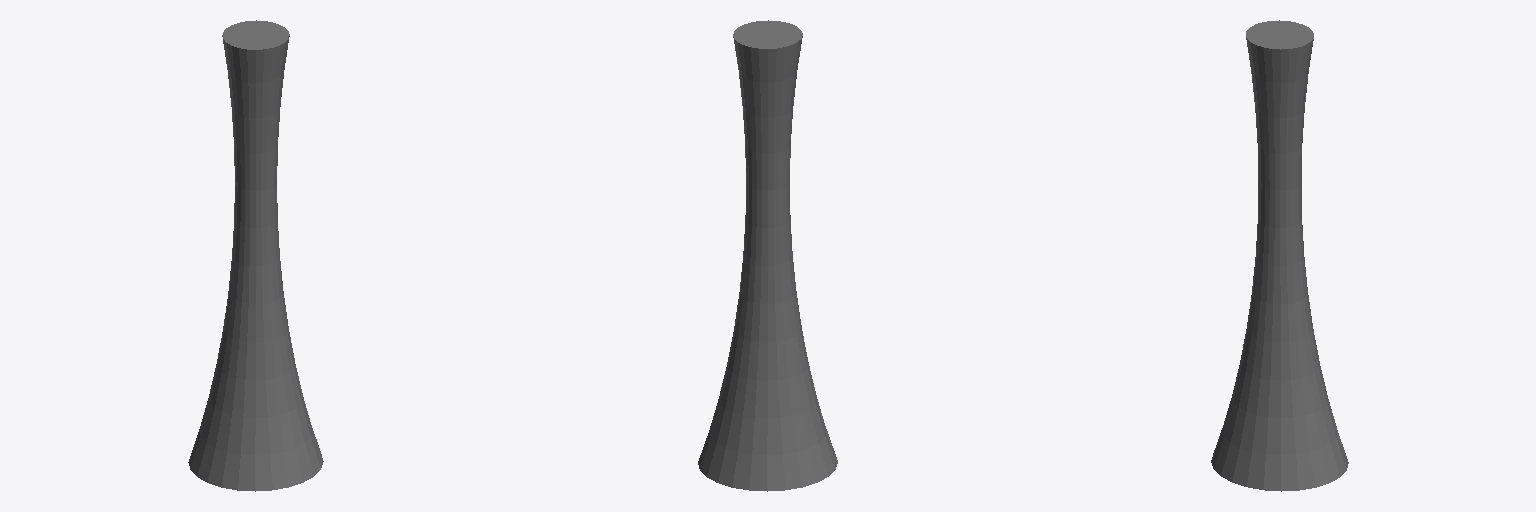
robot.urdf — object:
<?xml version="1.0"?>
<robot name="object">
  <link name="object">
    <visual>
      <origin xyz="0 0 0"/>
      <geometry>
        <mesh
          filename="../../mesh/oakink_virtual/cylinder_bottle_s617.stl" />
      </geometry>
      <material name="mat">
        <color rgba="0.5 0.5 0.5 1"/>
      </material>
    </visual>

    <collision>
      <origin xyz="0 0 0"/>
      <geometry>
        <mesh
          filename="../../mesh/oakink_virtual/cylinder_bottle_s617.stl" />
      </geometry>
    </collision>
  </link>
</robot>

--- What the picture shows (computed from the rendered views, not written in the file) ---
Views: 3 orthographic renders of the robot side by side, from view 1: azimuth 30°, elevation 25°; view 2: azimuth 150°, elevation 25°; view 3: azimuth 270°, elevation 25°.
Model object with 1 links and 0 joints (none), rooted at object, posed every joint at zero.
Links seen in each view (by area): view 1: object; view 2: object; view 3: object.
Boxes of the visible links, x1,y1,x2,y2 form: object: (188,20,323,491); object: (698,20,837,491); object: (1211,20,1348,491).
Size in the robot's own frame: 0.0452 by 0.0452 by 0.1545 metres.
Meshes: 1 distinct files referenced, 1 mesh visuals loaded (1 binary STL).